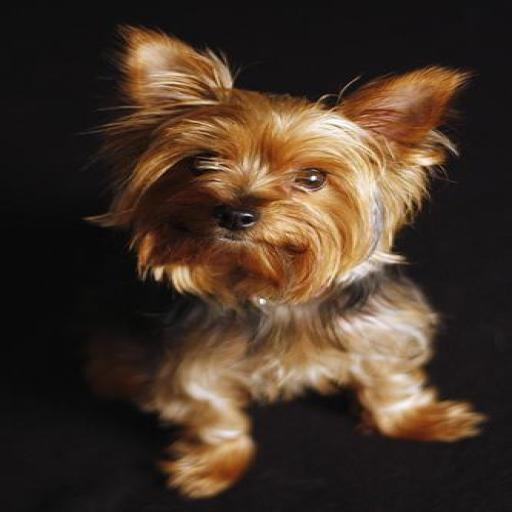dog_face: (89, 32, 460, 305)
